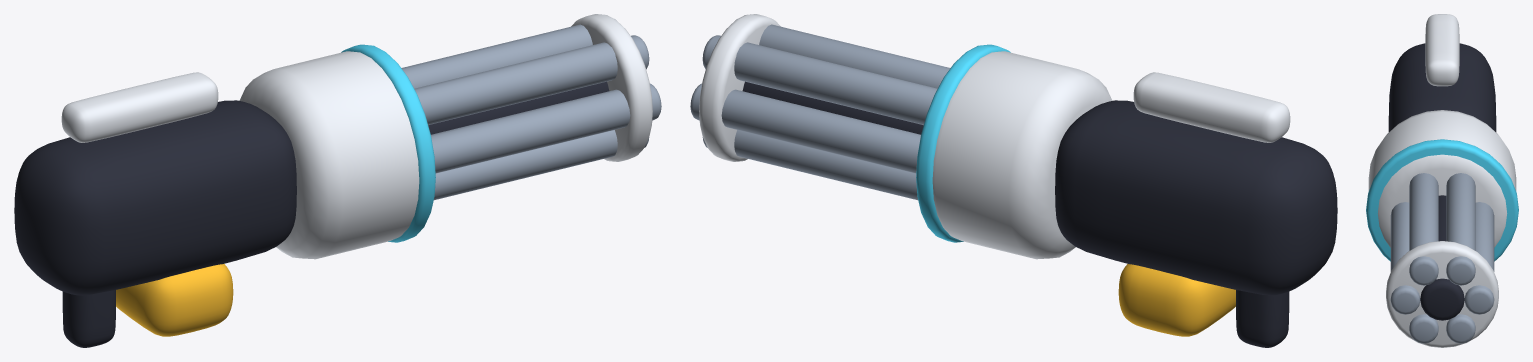
The model's file is minigun_chibi.glb.
3 views of the same model, side by side, from view 1: azimuth 30°, elevation 25°; view 2: azimuth 150°, elevation 25°; view 3: azimuth 270°, elevation 25° (orthographic). The views are drawn at different scales.
Visible parts, largest first — view 1: MinigunChibi, Barrels; view 2: MinigunChibi, Barrels; view 3: MinigunChibi, Barrels.
Part boxes in pixels (x1,y1,x2,y2): MinigunChibi: [14, 44, 435, 347]; Barrels: [401, 14, 661, 200]; MinigunChibi: [916, 44, 1337, 347]; Barrels: [690, 14, 950, 200]; MinigunChibi: [1366, 14, 1518, 261]; Barrels: [1386, 173, 1498, 347].
Bounding box in the file's own units: 1.07 × 0.4097 × 0.31.
1 material, 1 textured.
